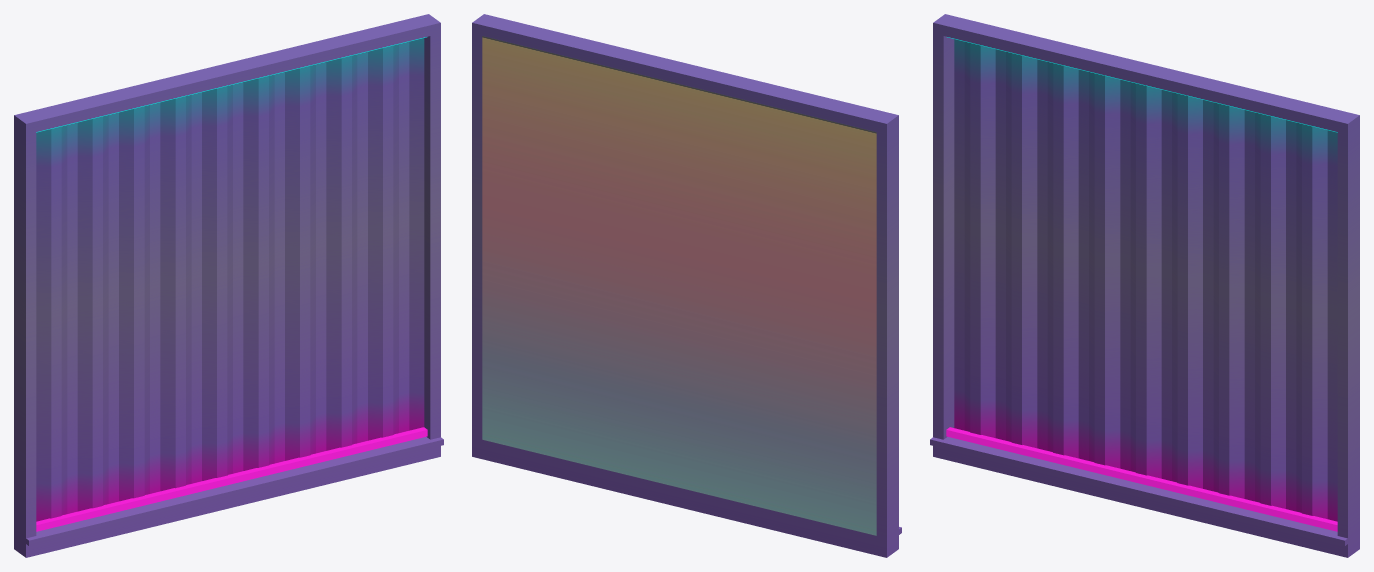
File: panel_01.gltf
3 renders of one model, left to right at view 1: azimuth 30°, elevation 25°; view 2: azimuth 150°, elevation 25°; view 3: azimuth 330°, elevation 25°, orthographic.
Parts seen in each view (by area): view 1: Details.001, Plane.001, Neones; view 2: Plane.002, Plane.001; view 3: Details.001, Plane.001, Neones.
Boxes of the visible parts, left/top/right/bottom form: Details.001: left=36, top=38, right=424, bottom=521; Plane.001: left=14, top=14, right=443, bottom=557; Neones: left=36, top=37, right=427, bottom=531; Plane.002: left=482, top=36, right=876, bottom=535; Plane.001: left=472, top=14, right=901, bottom=557; Details.001: left=954, top=39, right=1337, bottom=521; Plane.001: left=930, top=14, right=1359, bottom=557; Neones: left=946, top=37, right=1337, bottom=531.
Size of what is drawn, in the model's own units: 4 by 4 by 0.2507.
Materials: 2 (2 with a texture image).
